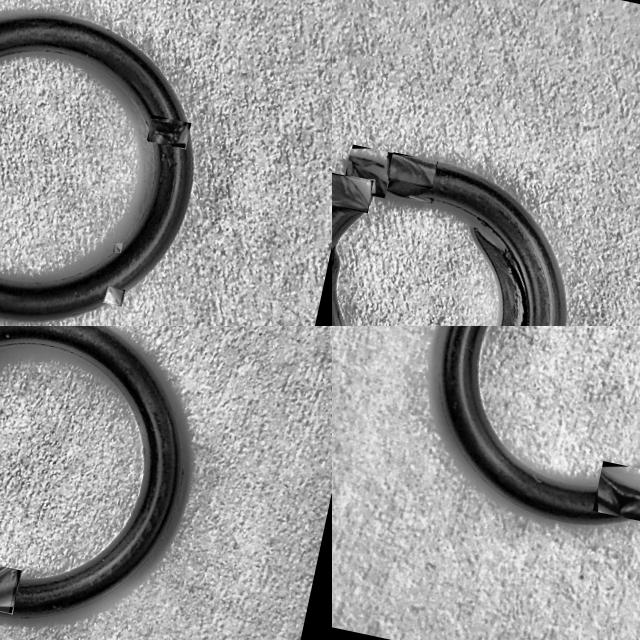侧边压痕: (106, 286, 120, 305)
切割缺陷: (600, 470, 640, 517), (392, 155, 435, 186), (332, 176, 368, 208), (149, 119, 188, 145)
挤压缺陷: (348, 149, 389, 192)
裂纹: (473, 227, 530, 326), (409, 194, 430, 202), (114, 242, 121, 253)
